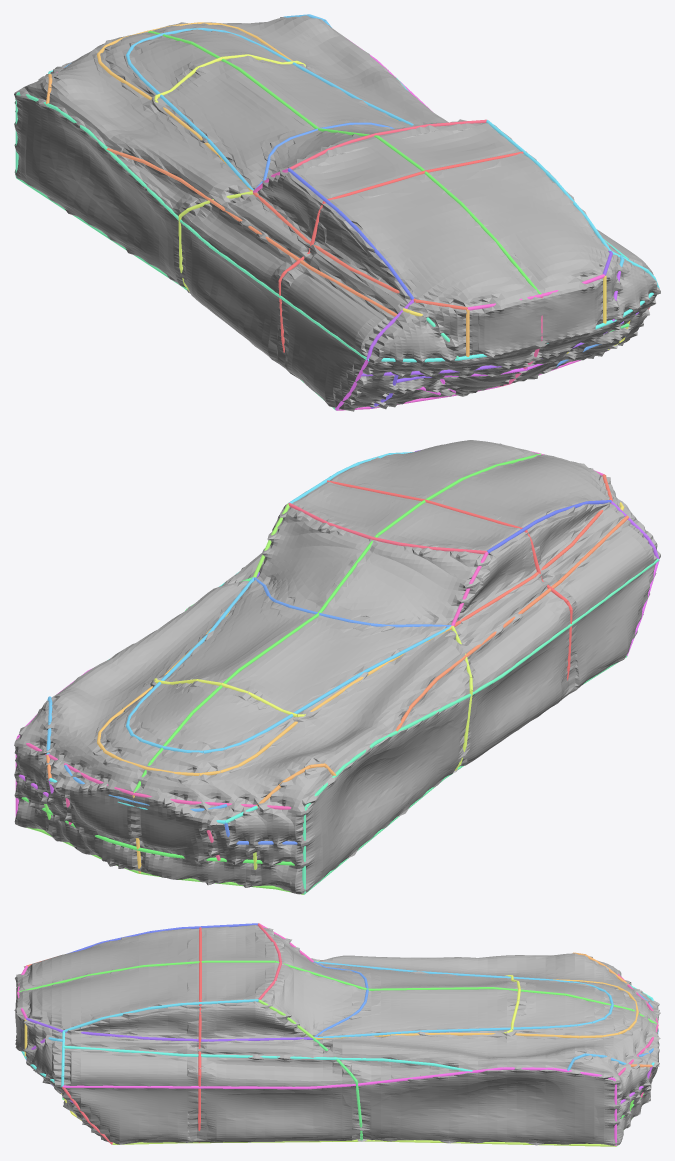
Rendered from t2f_car_93.gltf.
The picture shows the model from 3 angles, top to bottom: view 1: azimuth 30°, elevation 25°; view 2: azimuth 150°, elevation 25°; view 3: azimuth 270°, elevation 25°; orthographic projection. The views are drawn at different scales.
Size of the model in its own units: 0.3878 by 0.2237 by 0.9128.
